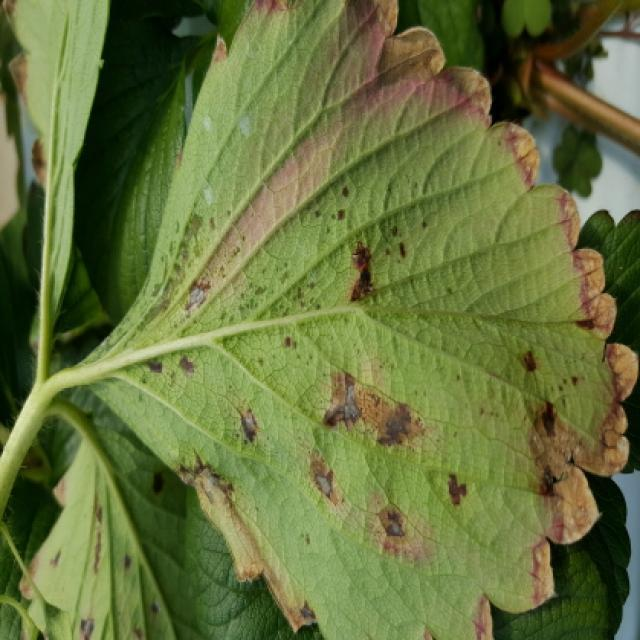Angular Leafspot: (80, 0, 638, 638), (18, 440, 173, 638)
